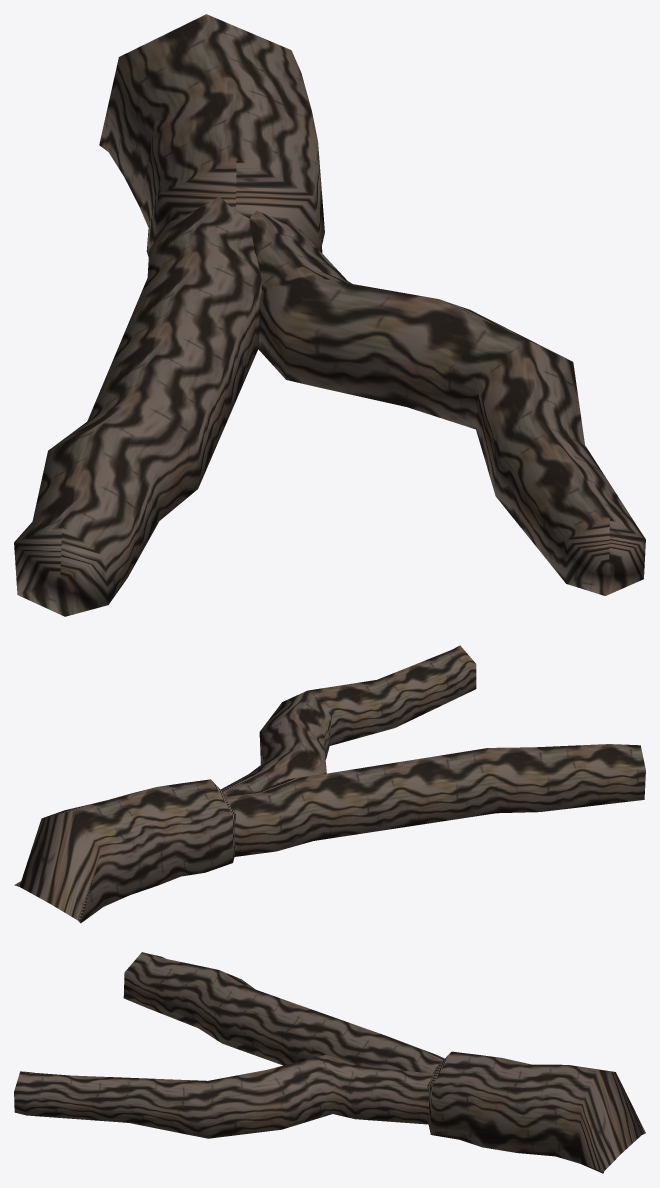
Rendered from fallen-b.lod1.glb.
3 renders of one model, top to bottom at view 1: azimuth 30°, elevation 25°; view 2: azimuth 150°, elevation 25°; view 3: azimuth 270°, elevation 25°, orthographic. The views are drawn at different scales.
Visible parts, largest first — view 1: bark; view 2: bark; view 3: bark.
Boxes of the visible parts, bbox=[...] form: bark: bbox=[14, 14, 645, 616]; bark: bbox=[14, 645, 645, 923]; bark: bbox=[14, 952, 645, 1173].
Bounding box in the file's own units: 2.62 × 0.5375 × 3.88.
1 material, 1 textured.
